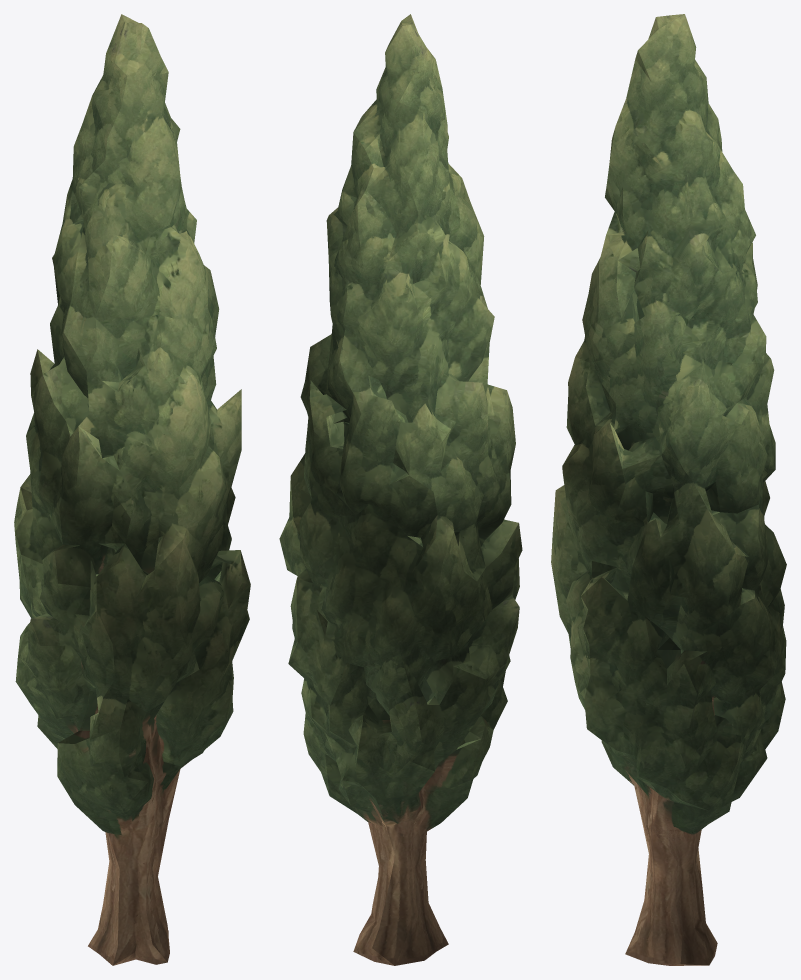
The model's file is cypress-tree.glb.
3 renders of one model, left to right at view 1: azimuth 30°, elevation 25°; view 2: azimuth 150°, elevation 25°; view 3: azimuth 270°, elevation 25°, orthographic.
Visible parts, largest first — view 1: geometry_0; view 2: geometry_0; view 3: geometry_0.
Boxes of the visible parts, <box> form: geometry_0: <box>14,14,250,965</box>; geometry_0: <box>279,14,522,965</box>; geometry_0: <box>551,14,786,965</box>.
Bounding box in the file's own units: 0.4572 × 1.91 × 0.4368.
1 material, 1 textured.
